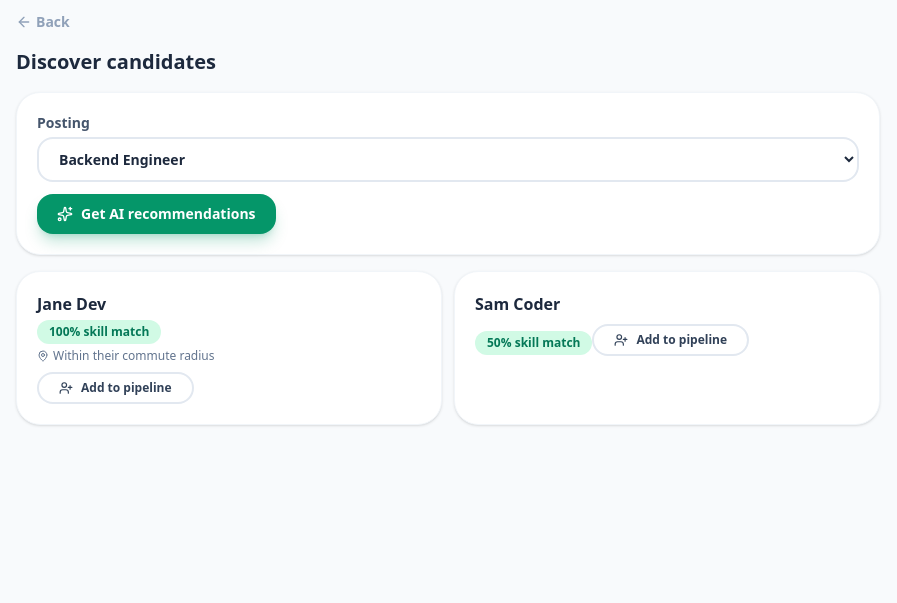
Scenario: Discovery › gets and renders AI recommendations when a key is set
Expected: the text "Jane Dev" is shown, x1=37 y1=293 x2=106 y2=315
Click the button "Get AI recommendations": [156, 214] box x1=37 y1=194 x2=276 y2=234
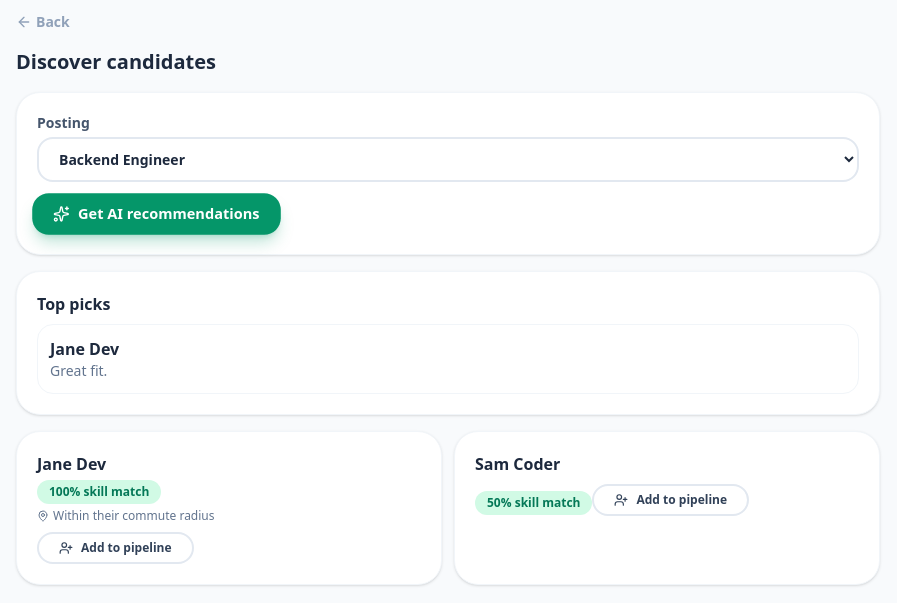
Now the heading "Top picks" is shown, box x1=37 y1=293 x2=110 y2=315
Now the text "Great fit." is shown, box x1=50 y1=361 x2=107 y2=380
